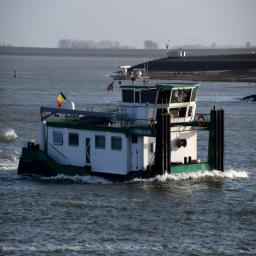tugboat: (17, 65, 227, 192)
